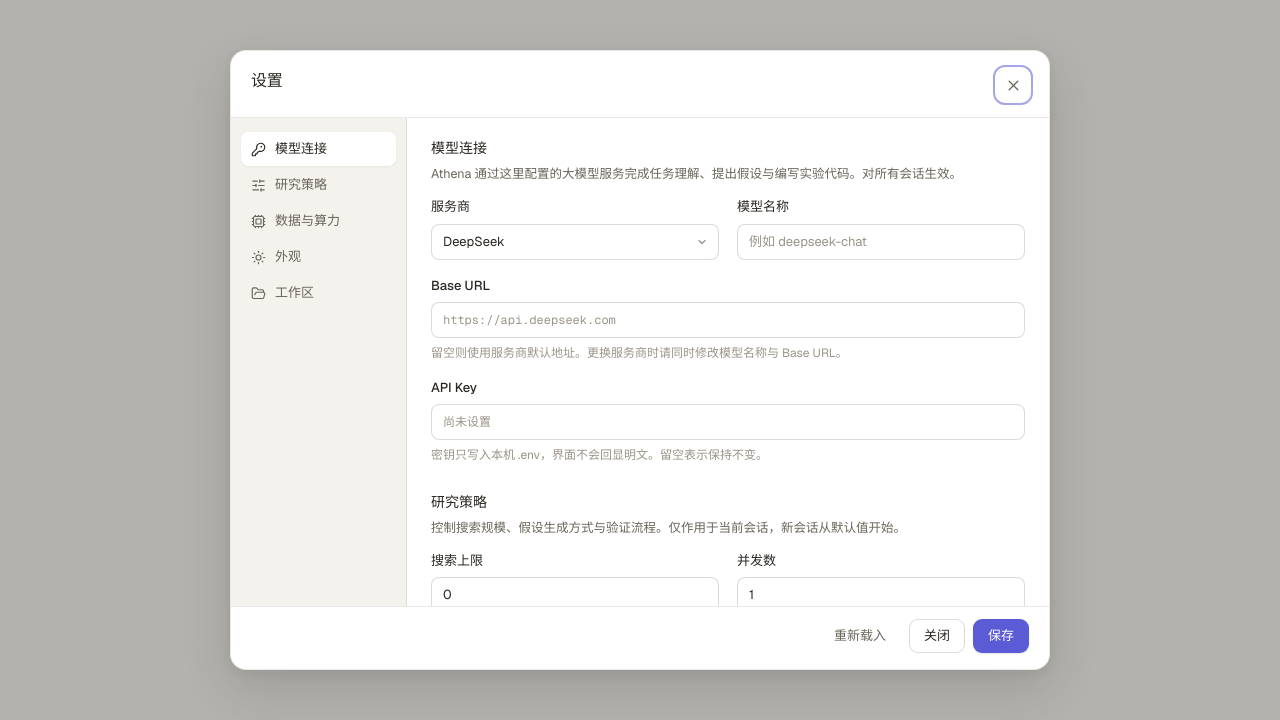
Test: SettingsPanel validation controls › blocks saving invalid numbers and explains why
Replace the text in the number field labelled "并发数 同时运行的实验 worker 数量" with "0": (881, 595) [737,577,1025,613]
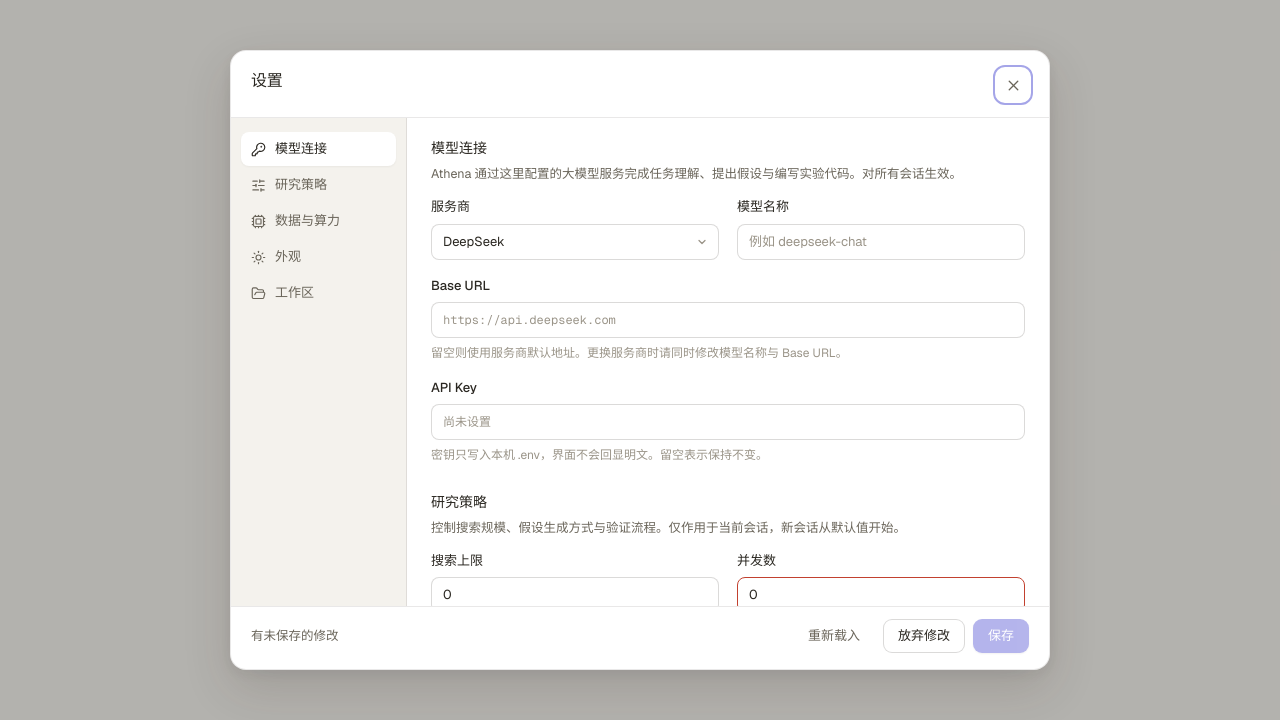
Check: the button "保存" is disabled, box [973,619,1029,653]
